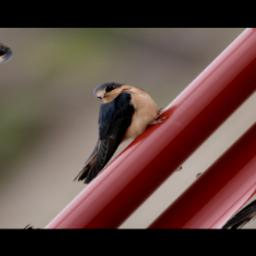Swallow: (15, 75, 189, 191)
